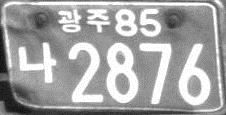2: (66, 41, 104, 104)
5: (139, 8, 162, 38)
6: (176, 41, 212, 108)
7: (138, 41, 174, 105)
8: (105, 41, 139, 104), (114, 7, 138, 36)
광주_O: (57, 6, 111, 34)
나: (16, 41, 57, 86)
